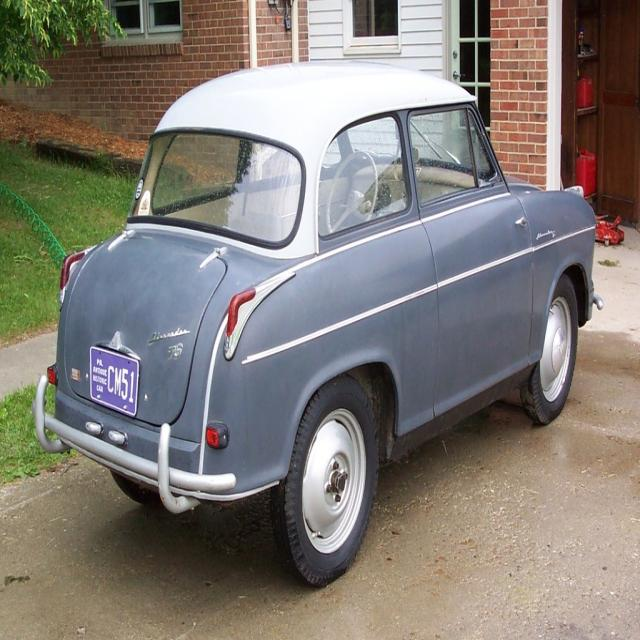car: (33, 59, 603, 590)
